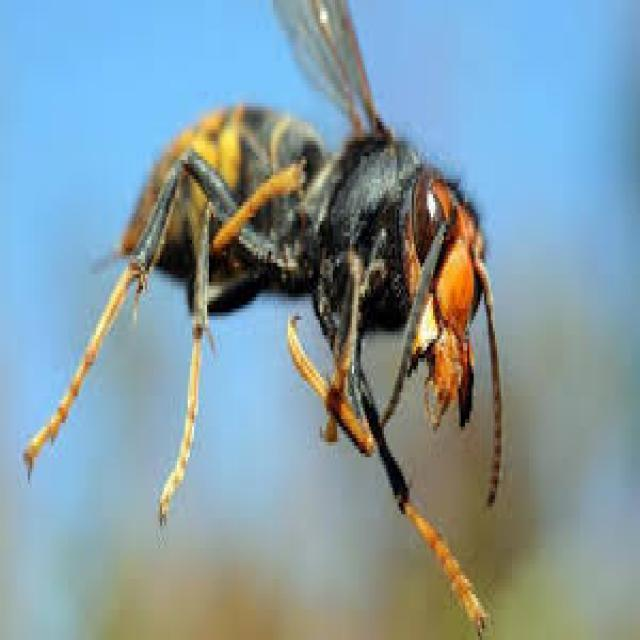Vespa Velutina: (15, 0, 506, 636)
